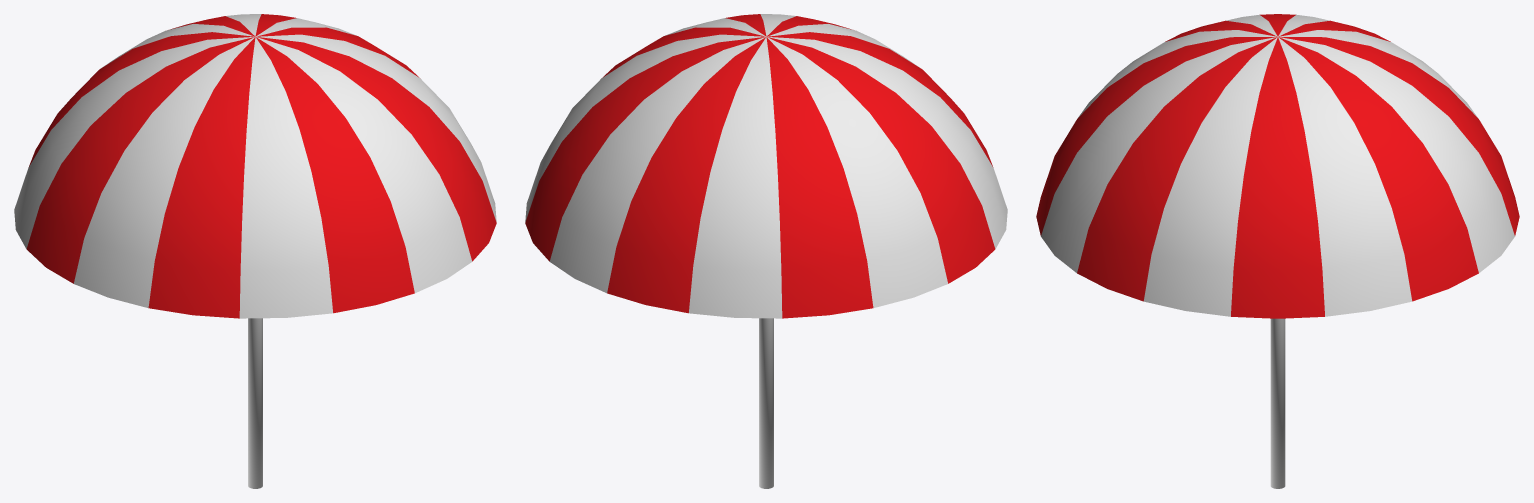
Rendered from Schirm.fbx.
The picture shows the model from 3 angles, left to right: view 1: azimuth 30°, elevation 25°; view 2: azimuth 150°, elevation 25°; view 3: azimuth 270°, elevation 25°; orthographic projection.
Visible parts, largest first — view 1: Schirm; view 2: Schirm; view 3: Schirm.
Boxes of the visible parts, left/top/right/bottom form: Schirm: left=14, top=14, right=496, bottom=488; Schirm: left=525, top=14, right=1007, bottom=488; Schirm: left=1036, top=14, right=1519, bottom=488.
Size of the model in its own units: 1.96 by 2.01 by 1.96.
